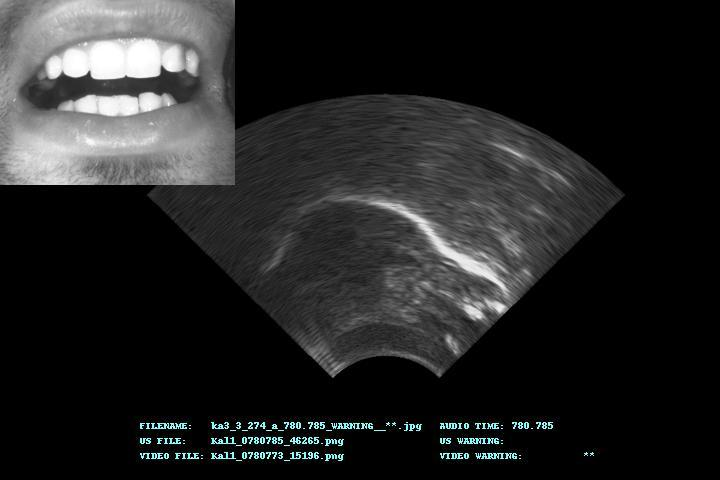-a-: (152, 96, 623, 377)
